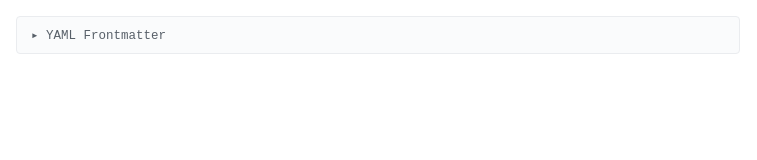
Test: Shell UI components › FrontmatterBar stays collapsed by default and reveals YAML on click
The width and height of the screenshot is (757, 160).
Later steps or results of the test are not shown.
Expected: the text "author: ELmark" is not shown
What coordinates should you click on to do the following:
click the button "▸ YAML Frontmatter"
I would click on:
 (99, 35)
Its box is top-left (31, 27), bottom-right (166, 43).
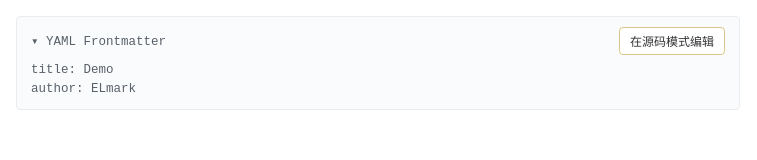
Expected: the text "title: Demo author: ELmark" is shown, top-left (31, 63), bottom-right (136, 96)
